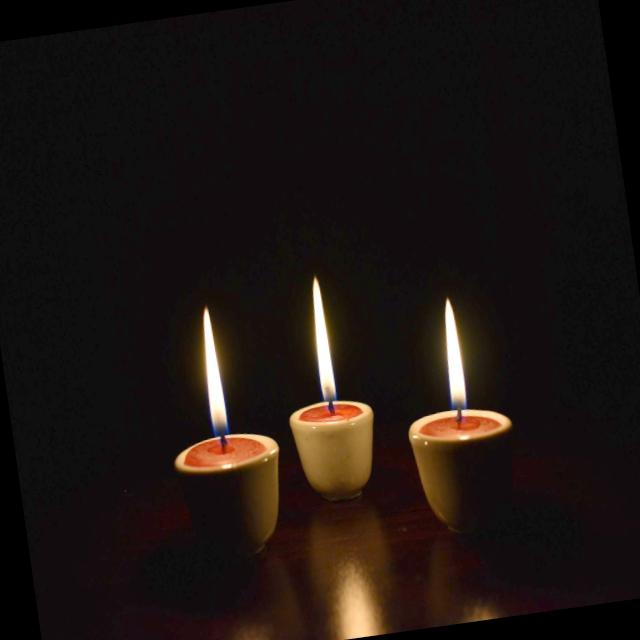Fire_Save: (152, 298, 294, 566), (390, 290, 526, 538), (270, 270, 384, 506)
